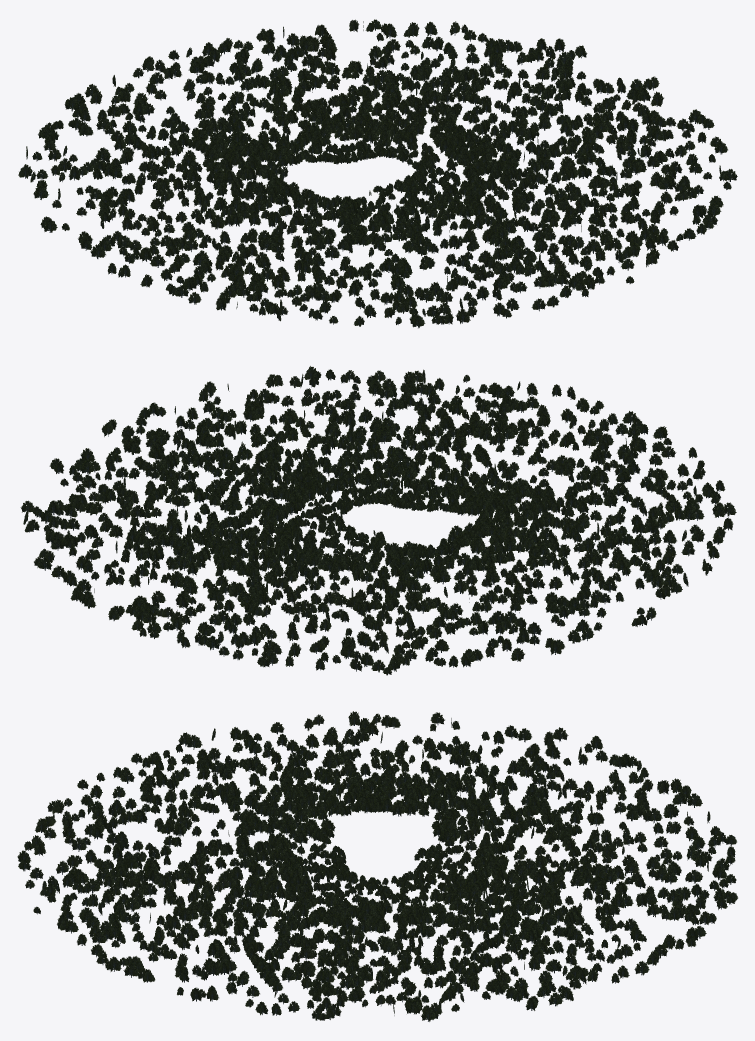
File: forest-desktop.glb
The picture shows the model from 3 angles, top to bottom: view 1: azimuth 30°, elevation 25°; view 2: azimuth 150°, elevation 25°; view 3: azimuth 270°, elevation 25°; orthographic projection.
Parts seen in each view (by area): view 1: Game_Forest_04, Game_Forest_07, Game_Forest_00, Game_Forest_05, Game_Forest_01, Game_Forest_02, Game_Forest_06, Game_Forest_03; view 2: Game_Forest_00, Game_Forest_04, Game_Forest_06, Game_Forest_05, Game_Forest_01, Game_Forest_07, Game_Forest_03, Game_Forest_02; view 3: Game_Forest_04, Game_Forest_00, Game_Forest_05, Game_Forest_01, Game_Forest_06, Game_Forest_02, Game_Forest_07, Game_Forest_03.
Boxes of the visible parts, <box> form: Game_Forest_04: <box>394,171,721,297</box>; Game_Forest_07: <box>80,177,361,321</box>; Game_Forest_00: <box>218,19,468,160</box>; Game_Forest_05: <box>385,30,663,165</box>; Game_Forest_01: <box>412,105,737,208</box>; Game_Forest_02: <box>299,183,559,328</box>; Game_Forest_06: <box>38,42,358,164</box>; Game_Forest_03: <box>18,127,300,244</box>; Game_Forest_00: <box>34,520,356,647</box>; Game_Forest_04: <box>289,366,539,507</box>; Game_Forest_06: <box>205,530,471,675</box>; Game_Forest_05: <box>20,448,347,562</box>; Game_Forest_01: <box>101,374,368,511</box>; Game_Forest_07: <box>451,480,736,593</box>; Game_Forest_03: <box>398,522,670,661</box>; Game_Forest_02: <box>398,384,705,512</box>; Game_Forest_04: <box>25,860,353,977</box>; Game_Forest_00: <box>409,858,737,975</box>; Game_Forest_05: <box>376,871,629,1021</box>; Game_Forest_01: <box>137,872,387,1020</box>; Game_Forest_06: <box>414,756,736,872</box>; Game_Forest_02: <box>17,767,346,871</box>; Game_Forest_07: <box>130,711,385,842</box>; Game_Forest_03: <box>376,712,631,841</box>.
Size of the model in its own units: 339 by 17.56 by 341.
Materials: 1 (1 with a texture image).
